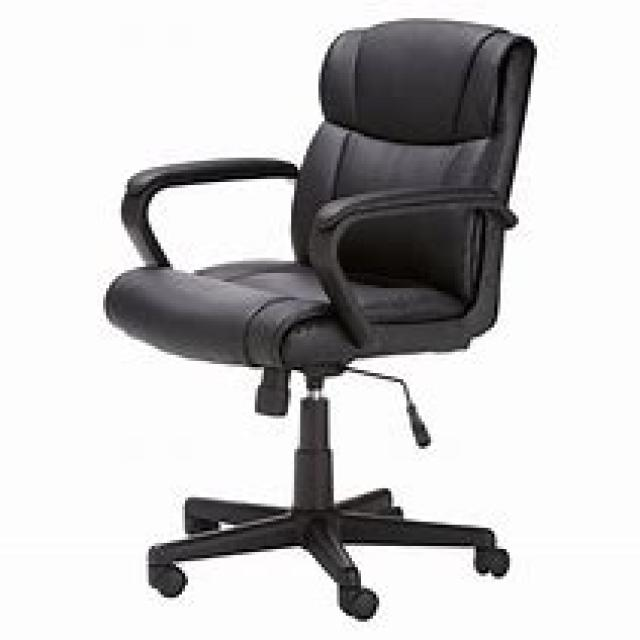chair: (100, 15, 537, 619)
